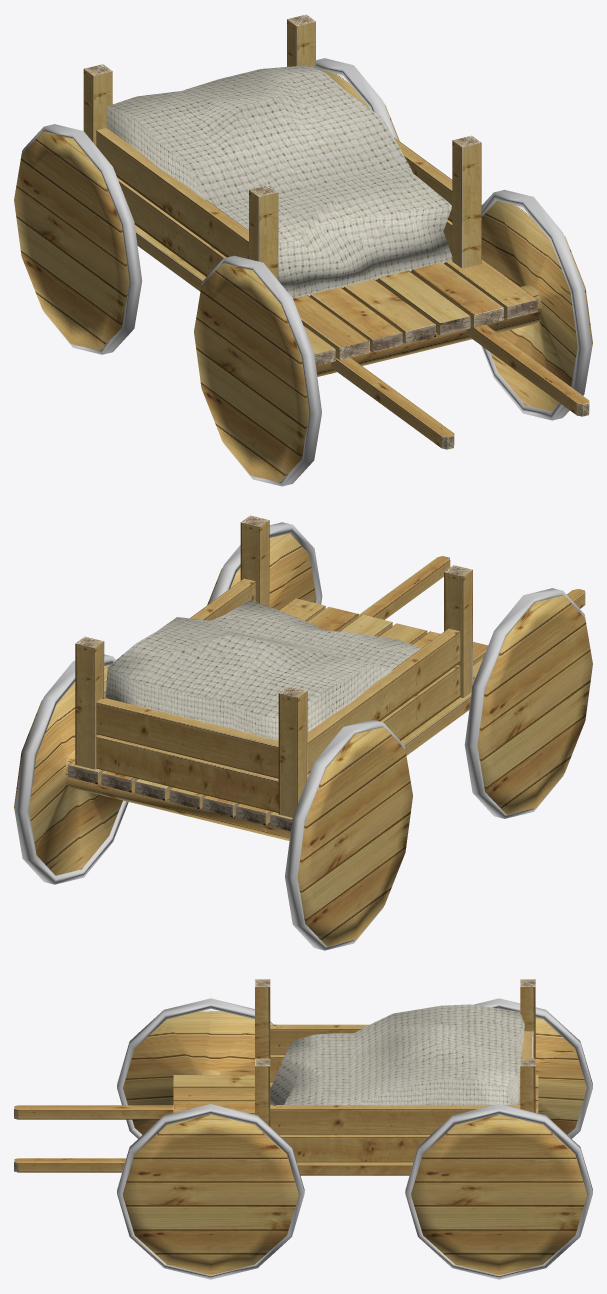
File: Cart3.fbx
3 views of the same model, one above another, from view 1: azimuth 30°, elevation 25°; view 2: azimuth 150°, elevation 25°; view 3: azimuth 270°, elevation 25° (orthographic). The views are drawn at different scales.
Parts seen in each view (by area): view 1: Cube.006; view 2: Cube.006; view 3: Cube.006.
Part boxes in pixels (bbox=[...]): Cube.006: bbox=[14, 14, 592, 486]; Cube.006: bbox=[14, 515, 592, 950]; Cube.006: bbox=[14, 979, 592, 1279].
Size of the model in its own units: 402 by 339 by 873.
